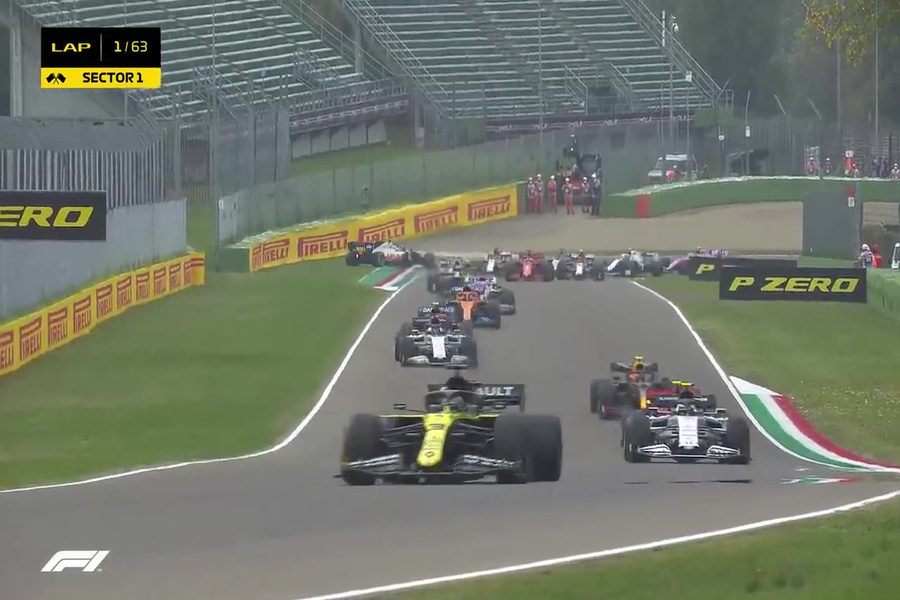Ferrari: (501, 252, 555, 283)
McLaren: (424, 286, 503, 327)
Red Bull Racing: (588, 355, 697, 421)
Renault: (334, 364, 565, 485)
